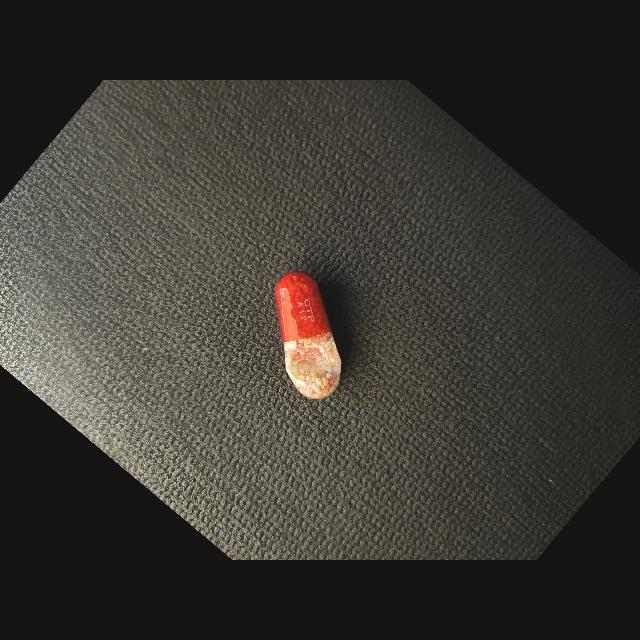Defective Capsule: (274, 271, 341, 399)
